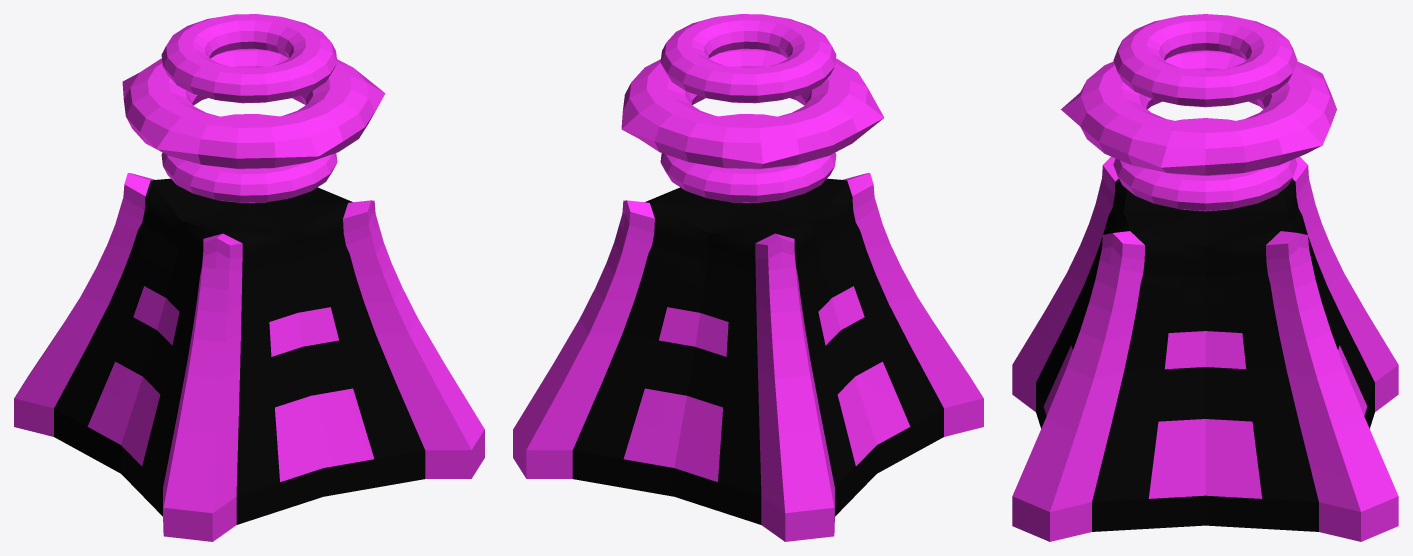
The model's file is bigTower.fbx.
3 views of the same model, side by side, from view 1: azimuth 30°, elevation 25°; view 2: azimuth 150°, elevation 25°; view 3: azimuth 270°, elevation 25° (orthographic). The views are drawn at different scales.
Visible parts, largest first — view 1: Tower; view 2: Tower; view 3: Tower.
Boxes of the visible parts, x1,y1,x2,y2 form: Tower: [14, 14, 484, 541]; Tower: [513, 14, 983, 541]; Tower: [1012, 14, 1398, 541].
Size of the model in its own units: 7.88 by 9.33 by 7.88.
1 material, 1 textured.
